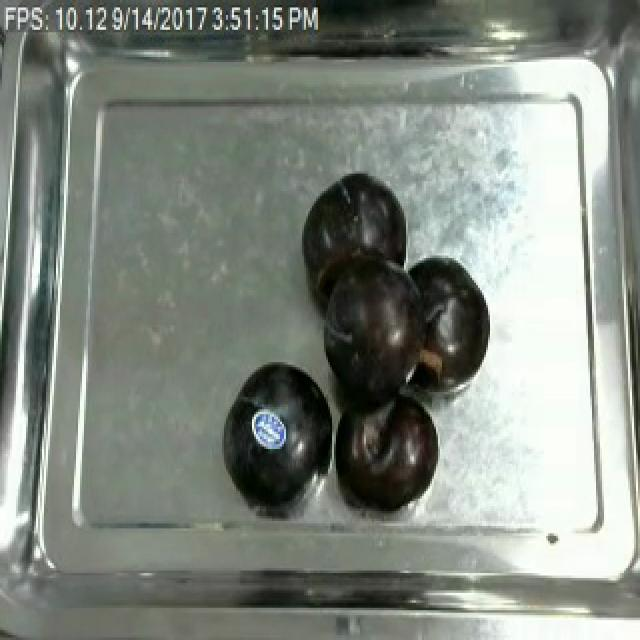Fruit: (214, 352, 336, 509), (296, 168, 402, 292), (342, 389, 440, 516), (410, 253, 494, 394)
